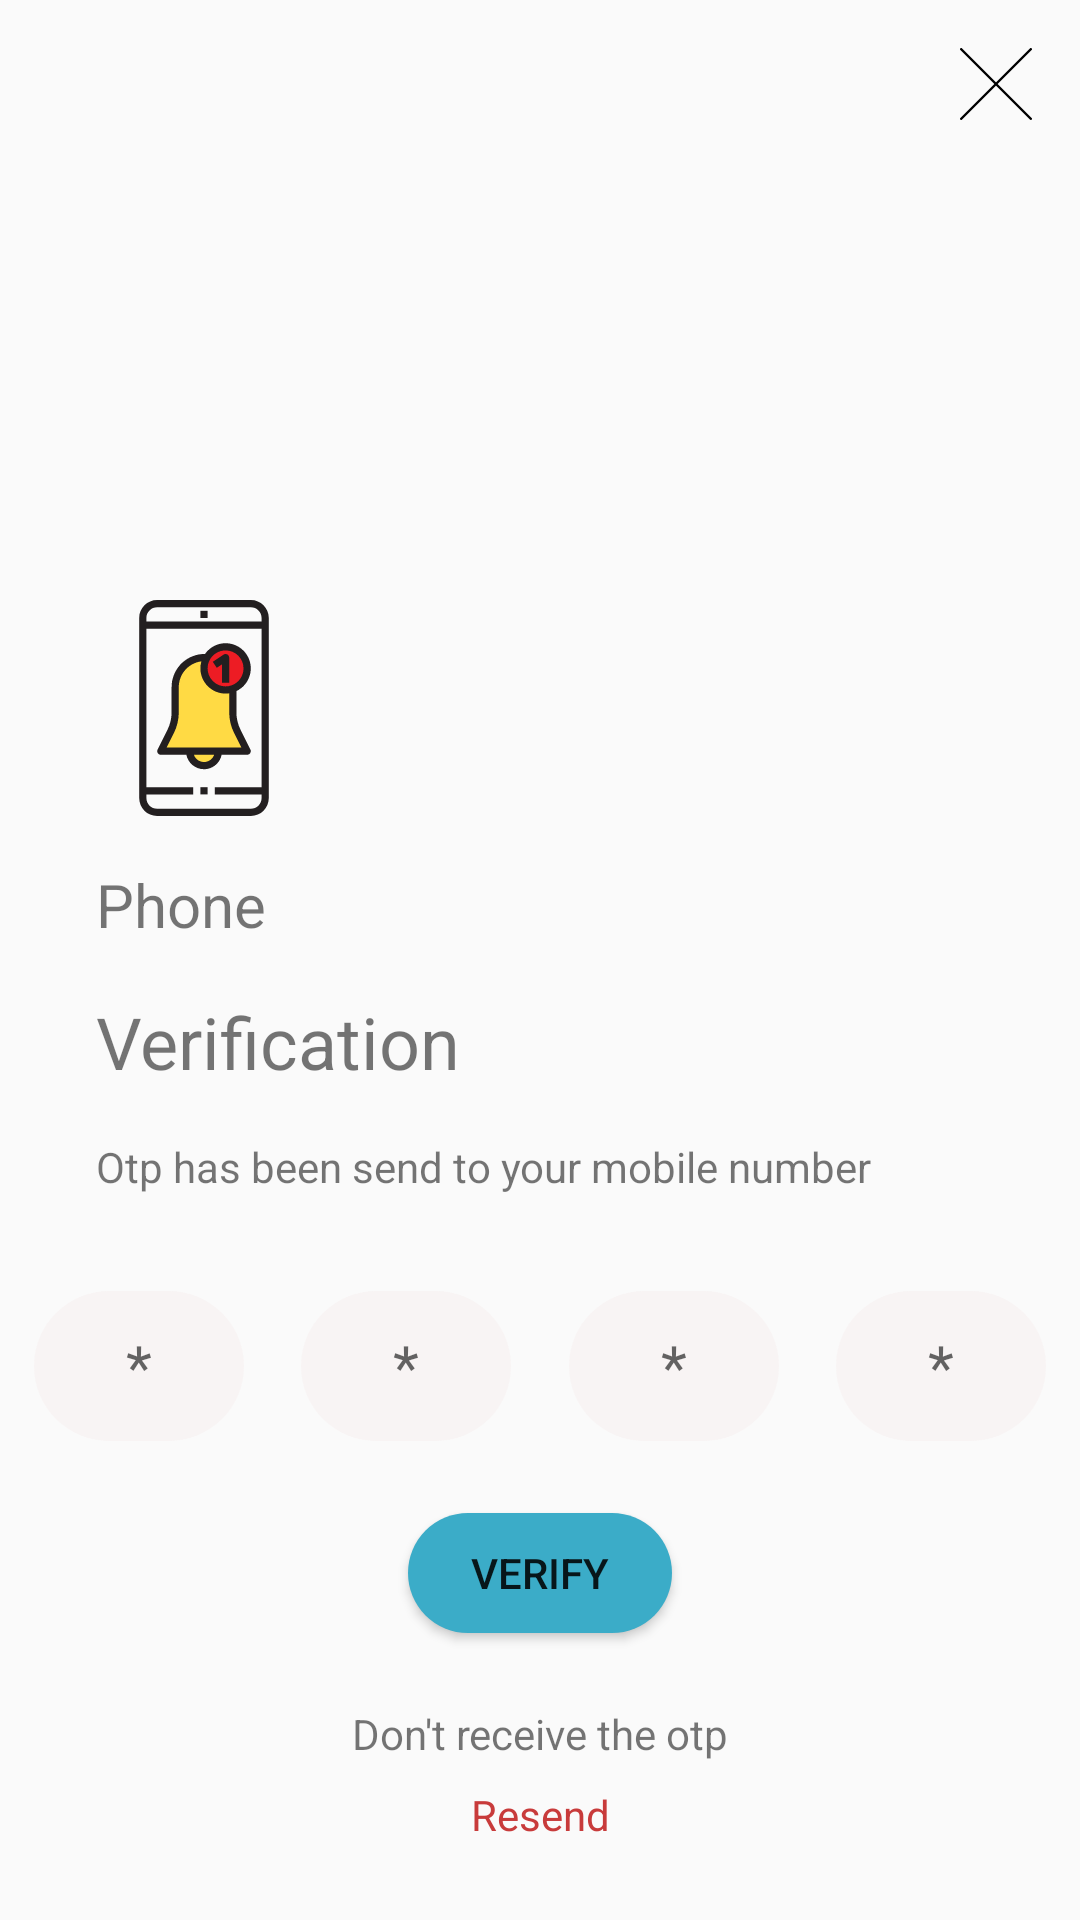

Icon click points for this 1080px x 1920px phone screenshot, format point (x, y):
close: point (996, 84)
